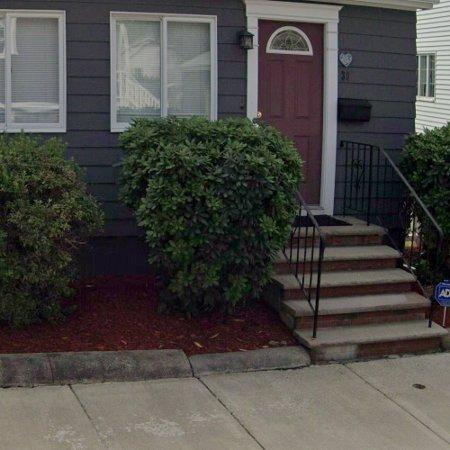stairs: (266, 205, 448, 363)
